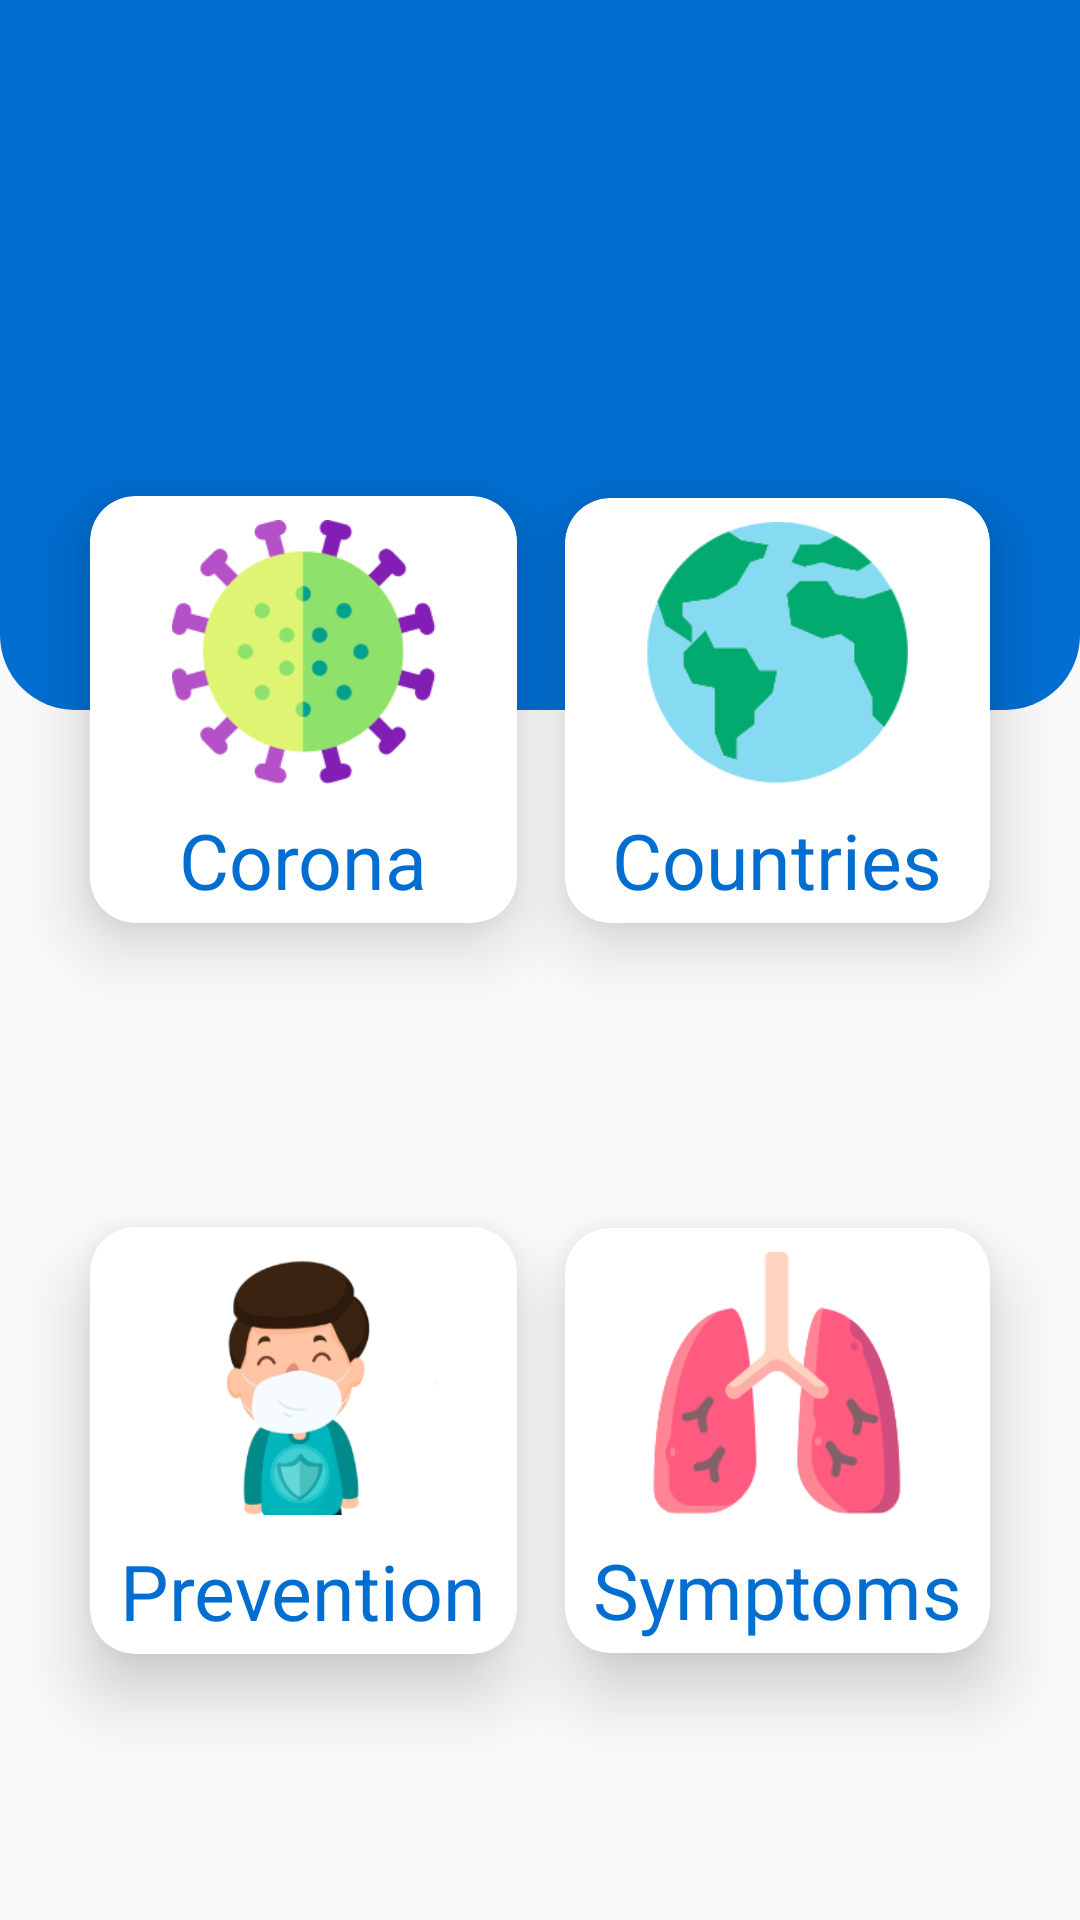

Where to tap for icons on this 1080w x 1920h app screen, as [x,y]:
lungs: [777,1383]
